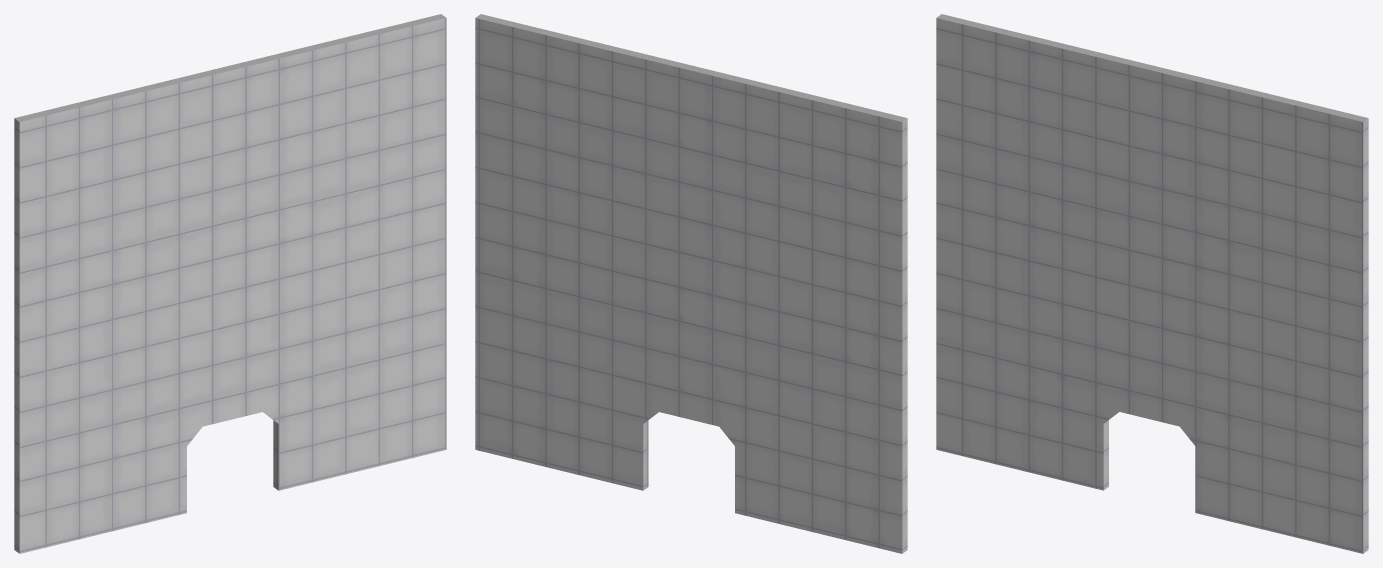
Rendered from Doorway_Large.fbx.
3 views of the same model, side by side, from view 1: azimuth 30°, elevation 25°; view 2: azimuth 150°, elevation 25°; view 3: azimuth 330°, elevation 25° (orthographic).
Visible parts, largest first — view 1: pCube17; view 2: pCube17; view 3: pCube17.
Boxes of the visible parts, x1,y1,x2,y2 form: pCube17: (14, 14, 446, 553); pCube17: (475, 14, 907, 553); pCube17: (936, 14, 1368, 553).
Size of the model in its own units: 22.86 by 22.1 by 0.5.
2 materials, 1 textured.
